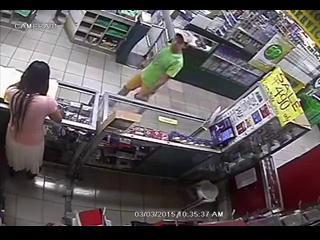Normal: (4, 60, 64, 180), (116, 32, 194, 103)
